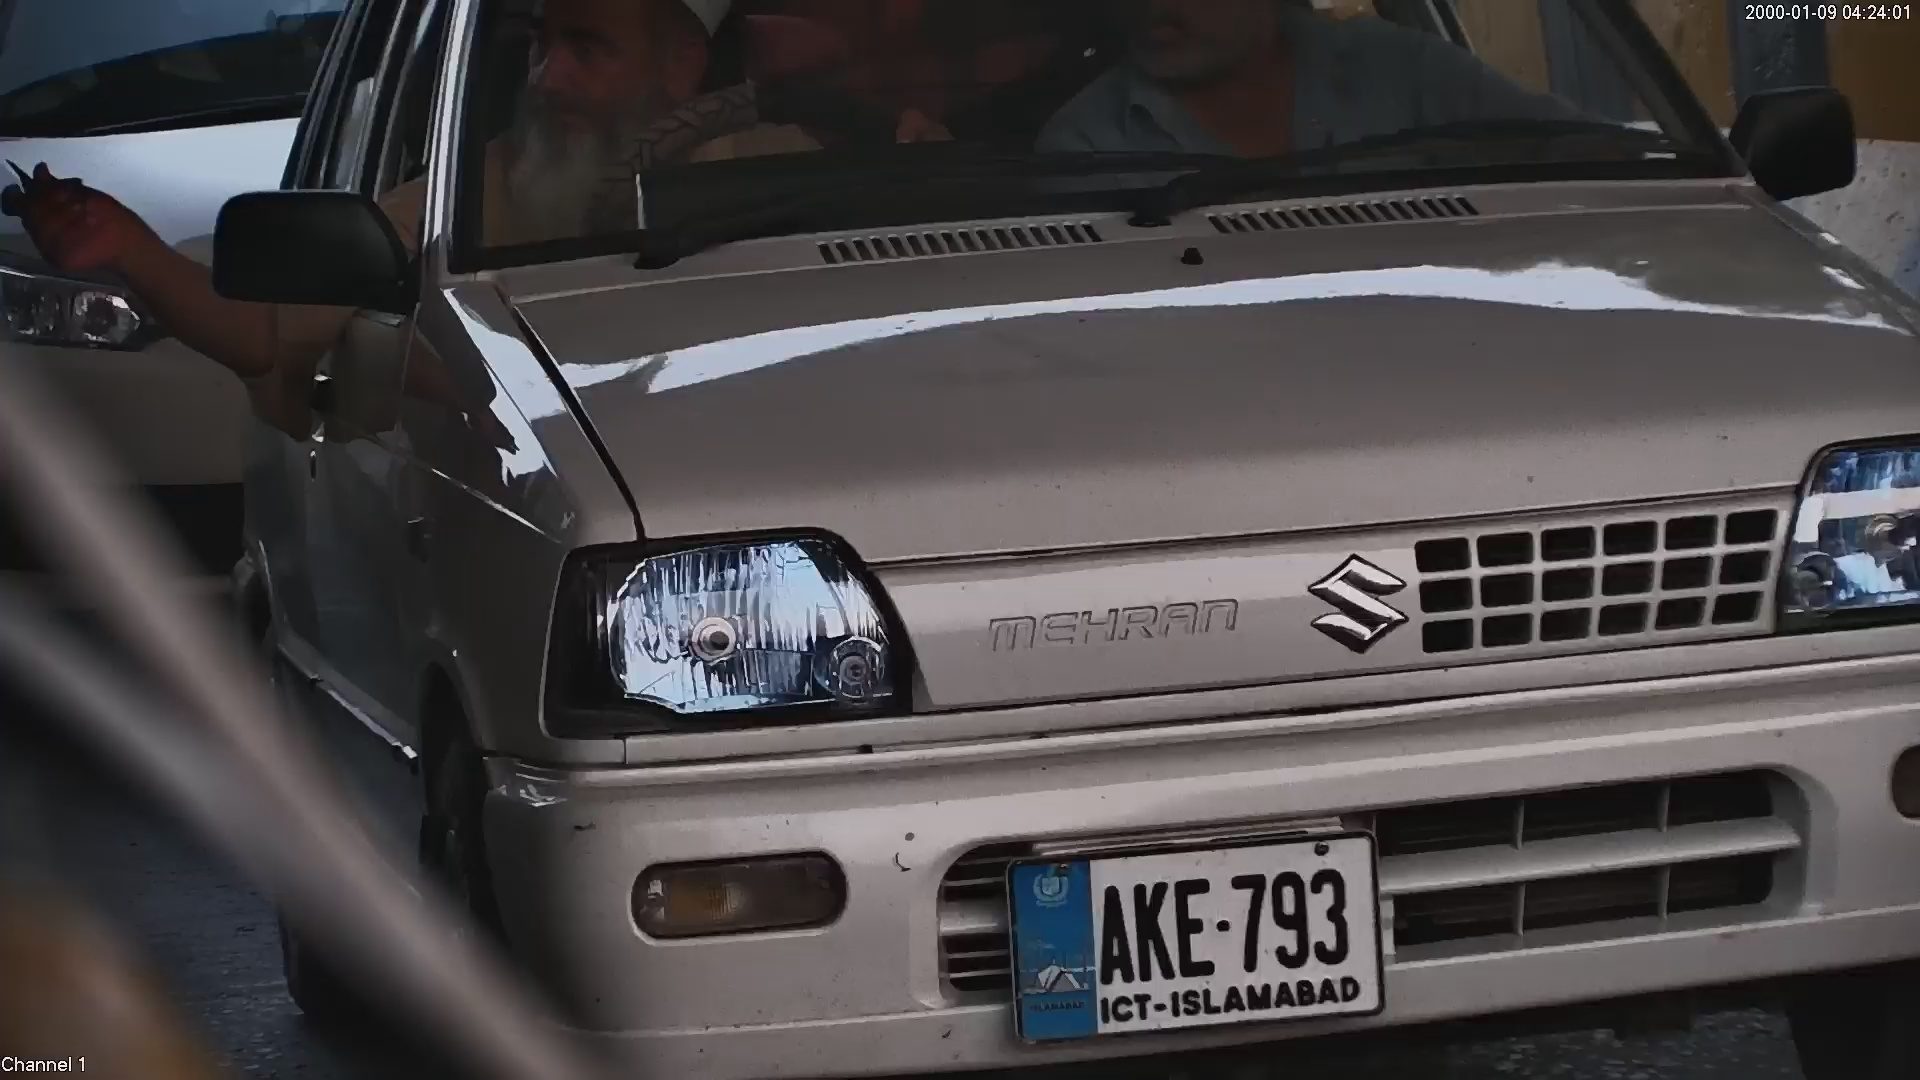Number_Plate: (987, 831, 1389, 1018)
Undefined: (584, 538, 878, 725), (626, 851, 847, 933), (978, 596, 1252, 651), (1297, 542, 1413, 662)
